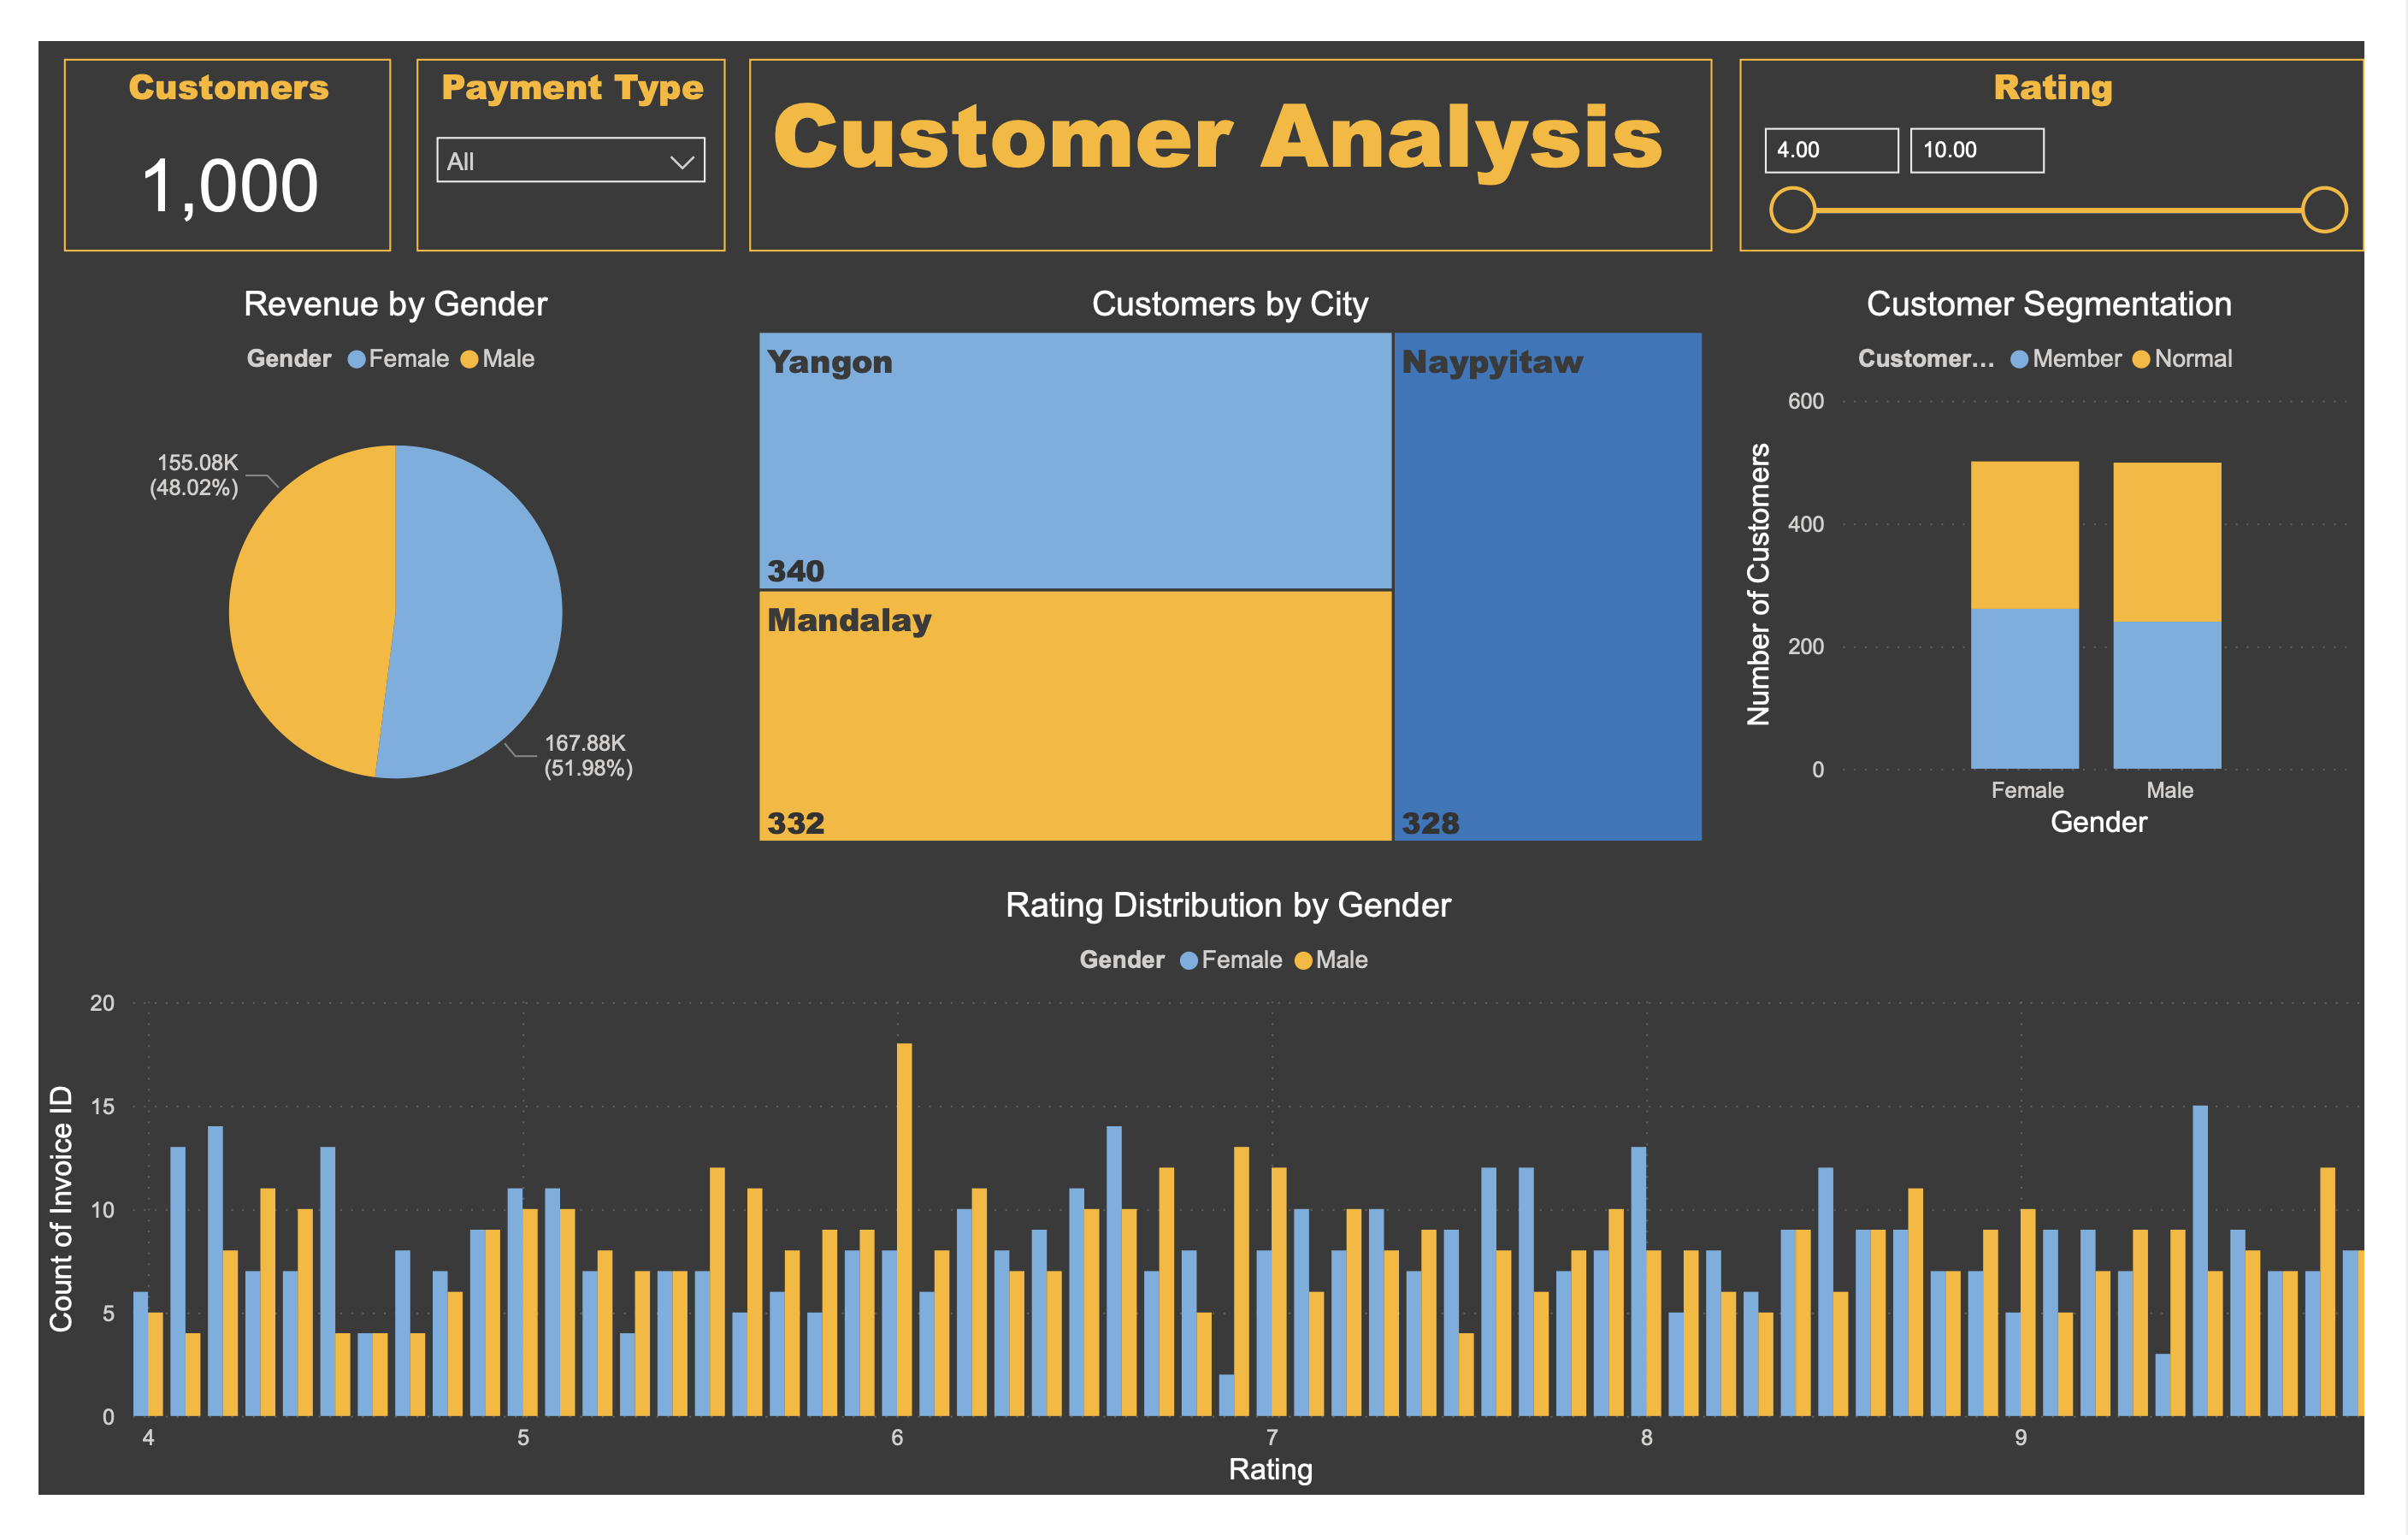

What the dashboard file says about the page in this screenshot:
{"tool":"powerbi","page":{"name":"Page 2","canvas":[1280,800],"ordinal":1},"visuals":[{"type":"clusteredColumnChart","title":"Rating Distribution by Gender","fields":{"Category":["supermarket_sales - Sheet1 4.Rating"],"Series":["supermarket_sales - Sheet1 4.Gender"],"Y":["Count(supermarket_sales - Sheet1 4.Invoice ID)"]},"box":[0,465,1310,335],"z":0},{"type":"treemap","title":"Customers by City","fields":{"Values":["CountNonNull(supermarket_sales - Sheet1 4.Invoice ID)"],"Group":["supermarket_sales - Sheet1 4.City"]},"box":[391,134.5,529.6,312],"z":1000},{"type":"card","title":"Customers","fields":{"Values":["Count(supermarket_sales - Sheet1 4.Invoice ID)"]},"box":[14,10,180,106],"z":2000},{"type":"columnChart","title":"Customer Segmentation","fields":{"Category":["supermarket_sales - Sheet1 4.Gender"],"Y":["CountNonNull(supermarket_sales - Sheet1 4.Invoice ID)"],"Series":["supermarket_sales - Sheet1 4.Customer type"]},"box":[934.5,134.5,345.2,309.2],"z":3000},{"type":"slicer","title":"Rating","fields":{"Values":["supermarket_sales - Sheet1 4.Rating"]},"box":[936,10,344,106],"z":4000},{"type":"textbox","box":[391.4,10,530,105.7],"z":5000},{"type":"slicer","title":"Payment Type","fields":{"Values":["supermarket_sales - Sheet1 4.Payment"]},"box":[208,10,170,106],"z":6000},{"type":"pieChart","title":" Revenue by Gender","fields":{"Y":["Sum(supermarket_sales - Sheet1 4.Revenue)"],"Category":["supermarket_sales - Sheet1 4.Gender"]},"box":[13.9,134.5,364.6,310.6],"z":7000}]}

Visuals, with their boxes in screenshot pixels (x1, y1, x2, y2), scaled from the page's 1280x800 canvas onto the 2408x1535 screenshot:
"Rating Distribution by Gender" clusteredColumnChart: [0,892,2407,1534]
"Customers by City" treemap: [735,258,1732,857]
"Customers" card: [27,19,365,222]
"Customer Segmentation" columnChart: [1758,258,2407,852]
"Rating" slicer: [1761,19,2407,222]
textbox: [736,19,1733,222]
"Payment Type" slicer: [392,19,711,222]
" Revenue by Gender" pieChart: [27,258,712,854]
